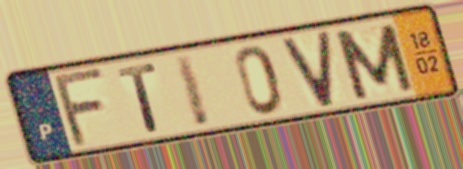0: (233, 43, 285, 116)
F: (52, 64, 110, 151)
I: (170, 50, 214, 131)
M: (330, 20, 419, 103)
T: (114, 60, 162, 134)
V: (278, 27, 338, 111)
